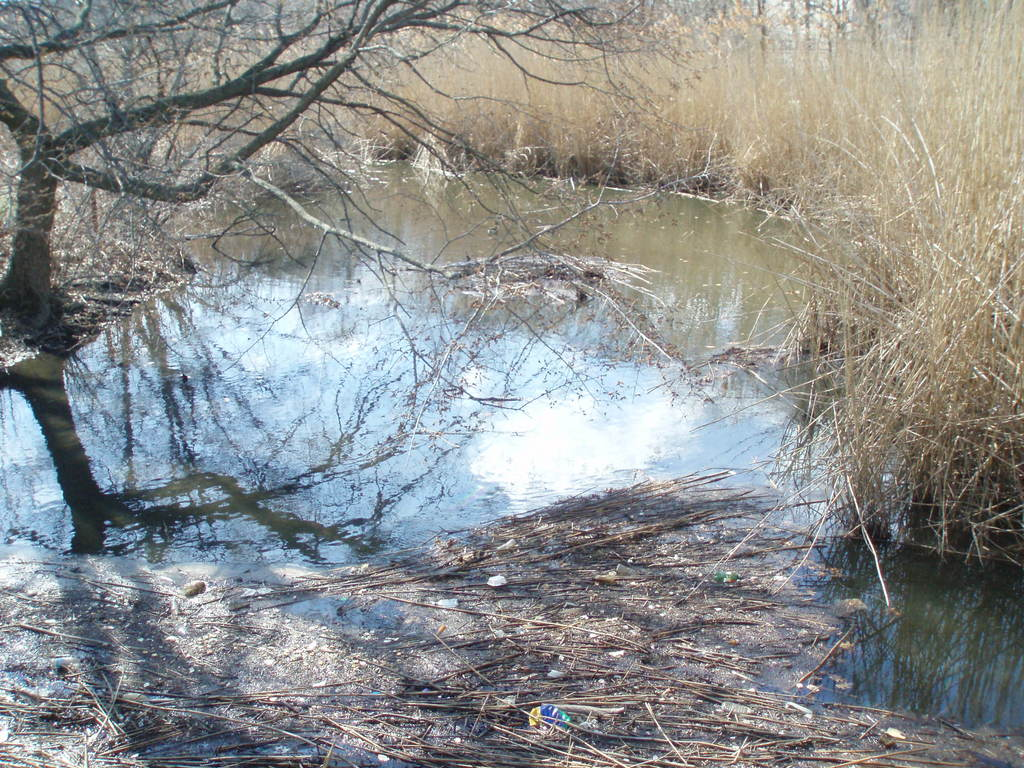Tree: (0, 0, 725, 323), (723, 0, 1023, 103)
